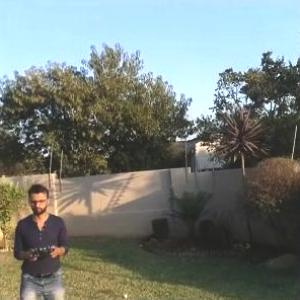follow: (10, 179, 74, 299)
